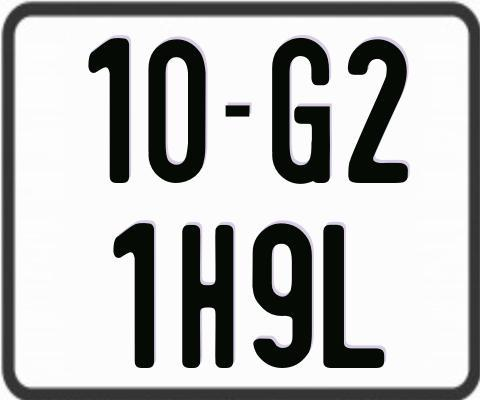0: (146, 38, 206, 186)
1: (112, 223, 157, 372), (88, 37, 130, 183)
2: (346, 39, 407, 189)
9: (249, 222, 314, 367)
G: (272, 37, 335, 185)
H: (179, 222, 234, 371)
L: (323, 224, 387, 368)
